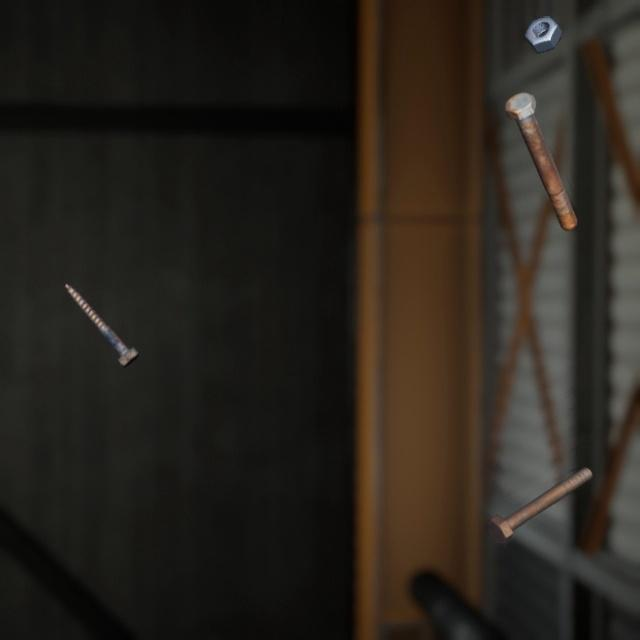bolt: (500, 74, 581, 221), (482, 442, 596, 527), (60, 262, 143, 354)
nut: (520, 2, 567, 48)
